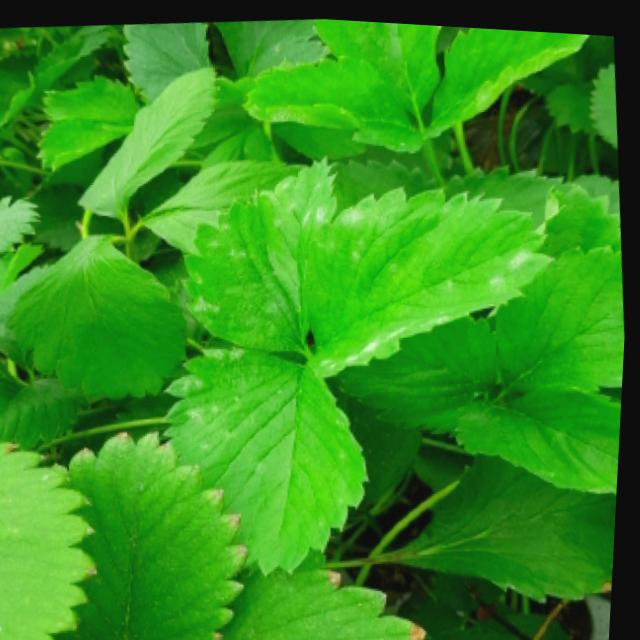Powdery Mildew Leaf: (306, 179, 559, 375), (165, 340, 374, 574), (182, 149, 340, 348)
